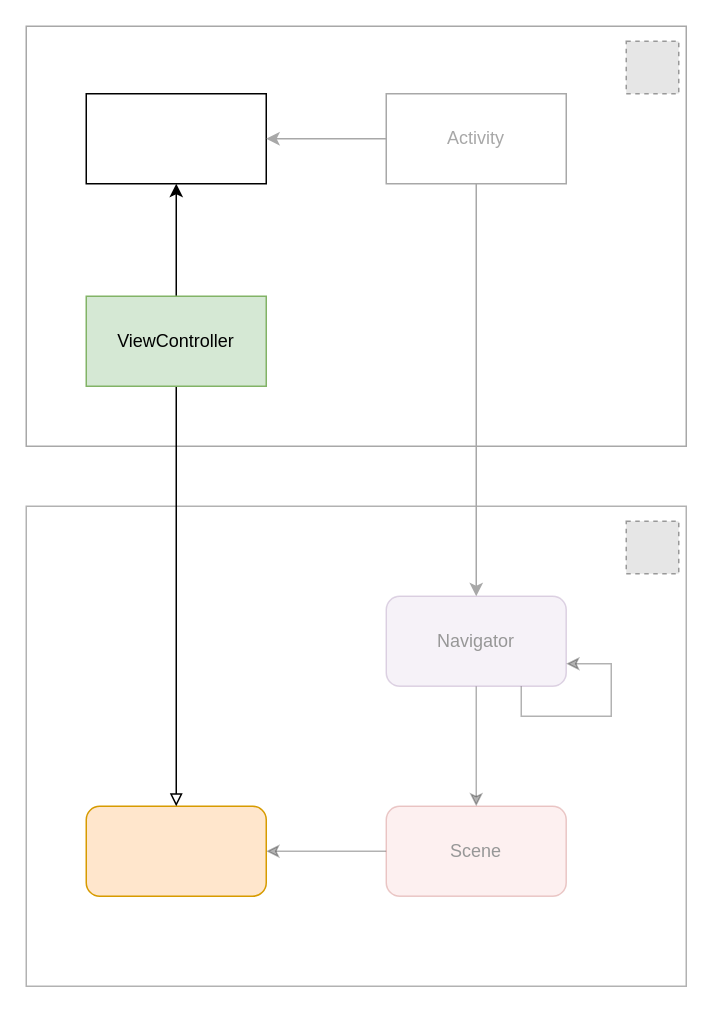
This 713x1013 diagram has some shape labels left out. Grey dashed boxes stand in for pictures. Each missing label, with the centre of its shape:
"Container" belongs at (175,850).
"View" belongs at (175,138).
